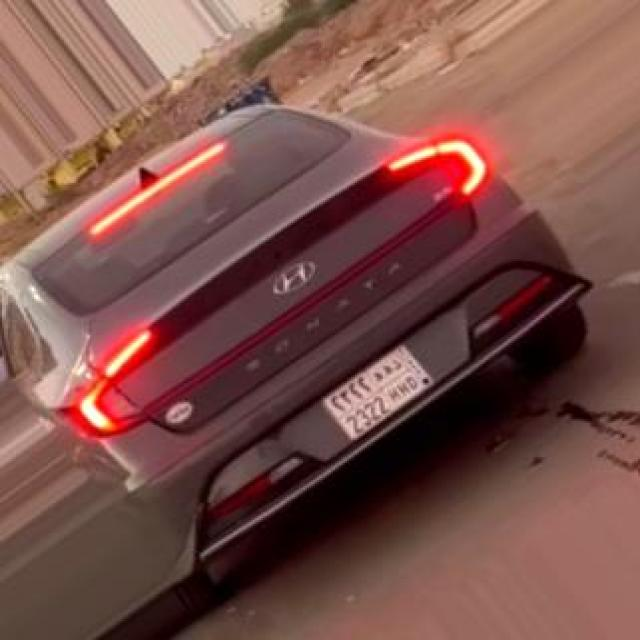Car-plate: (306, 342, 440, 446)
